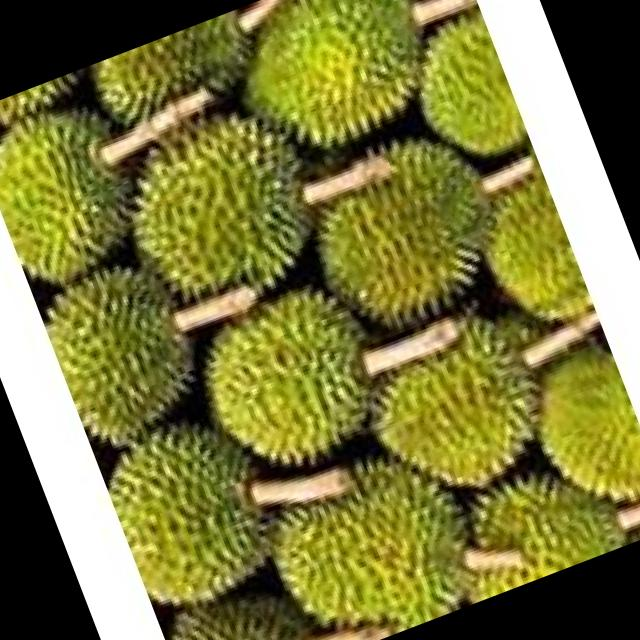fruit: (57, 42, 379, 360), (252, 98, 553, 380), (152, 246, 426, 516), (324, 280, 599, 540), (230, 423, 517, 640), (85, 372, 321, 634), (184, 0, 483, 205), (28, 224, 238, 462), (54, 0, 319, 174), (0, 65, 180, 308), (157, 555, 338, 640)
